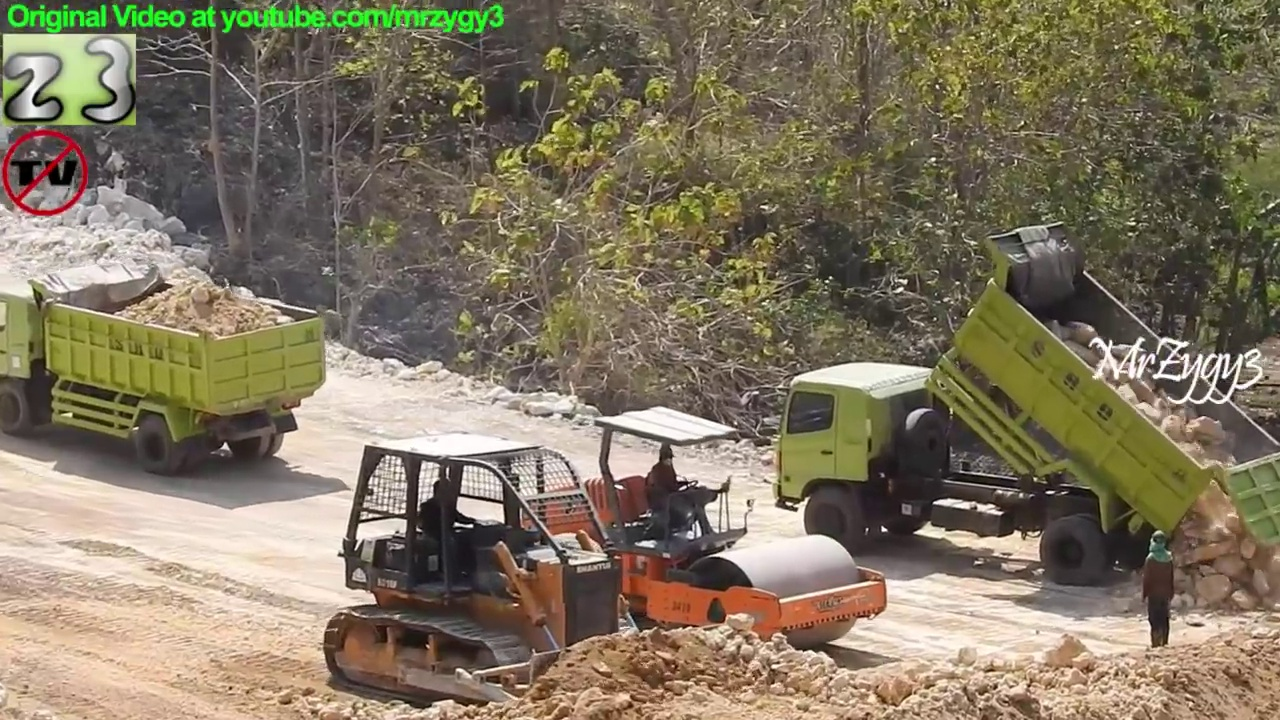bulldozer: (319, 423, 784, 720)
compactor: (510, 399, 900, 662)
truck: (769, 210, 1280, 597), (1, 254, 333, 479)
